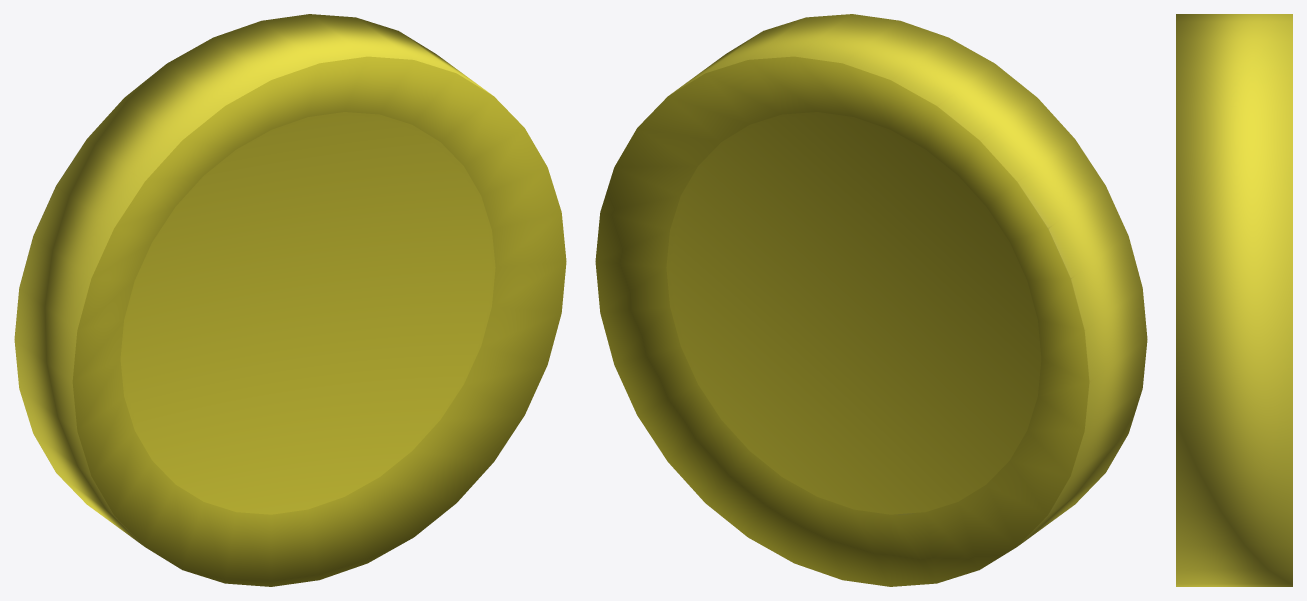
File: Coin.fbx
3 renders of one model, left to right at view 1: azimuth 30°, elevation 25°; view 2: azimuth 150°, elevation 25°; view 3: azimuth 270°, elevation 25°, orthographic.
Parts seen in each view (by area): view 1: Coin; view 2: Coin; view 3: Coin.
Boxes of the visible parts, x1,y1,x2,y2 form: Coin: (14, 14, 566, 586); Coin: (595, 14, 1147, 586); Coin: (1176, 14, 1292, 586).
Size of the model in its own units: 1.11 by 1.11 by 0.2256.
